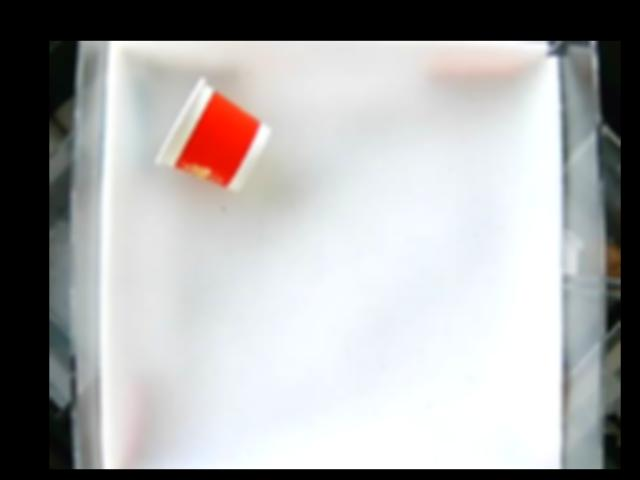Cup: (156, 74, 273, 193)
